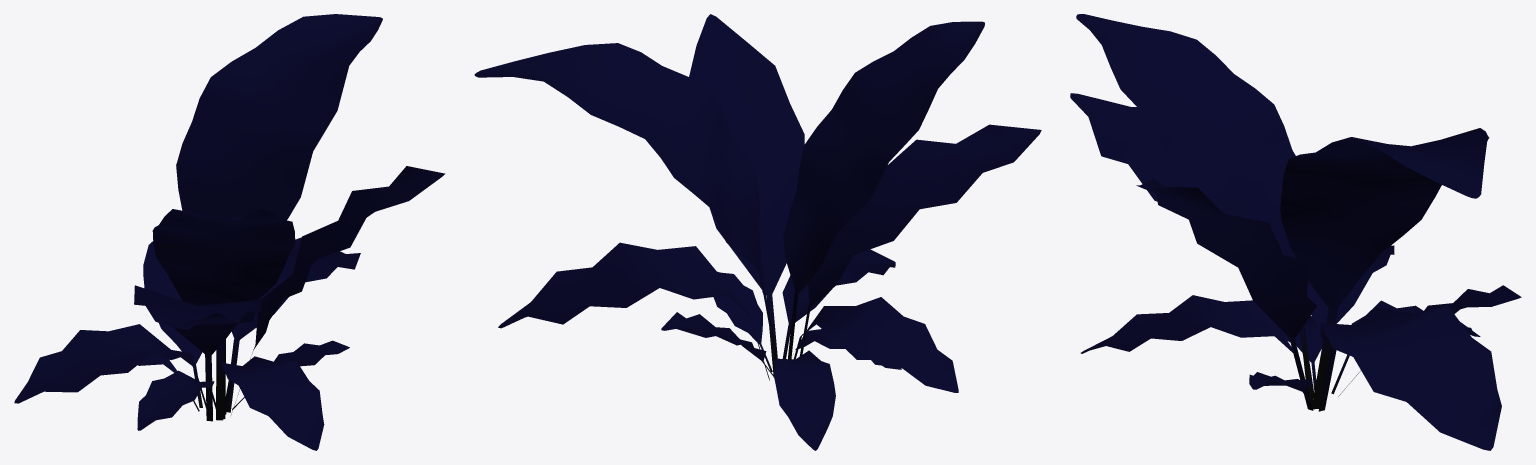
The model's file is SM_Foliage_PalmPlantB_07.fbx.
The picture shows the model from 3 angles, left to right: view 1: azimuth 30°, elevation 25°; view 2: azimuth 150°, elevation 25°; view 3: azimuth 270°, elevation 25°; orthographic projection. The views are drawn at different scales.
Parts seen in each view (by area): view 1: SM_Foliage_PalmPlantB_07; view 2: SM_Foliage_PalmPlantB_07; view 3: SM_Foliage_PalmPlantB_07.
Boxes of the visible parts, <box> form: SM_Foliage_PalmPlantB_07: <box>14,14,445,450</box>; SM_Foliage_PalmPlantB_07: <box>474,14,1041,450</box>; SM_Foliage_PalmPlantB_07: <box>1070,14,1521,450</box>.
Bounding box in the file's own units: 203 × 165 × 143.
